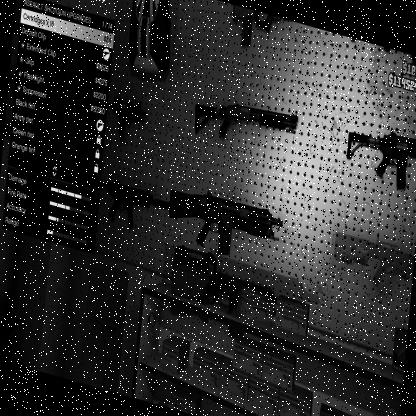rifle: (162, 180, 288, 272), (184, 80, 304, 165)
